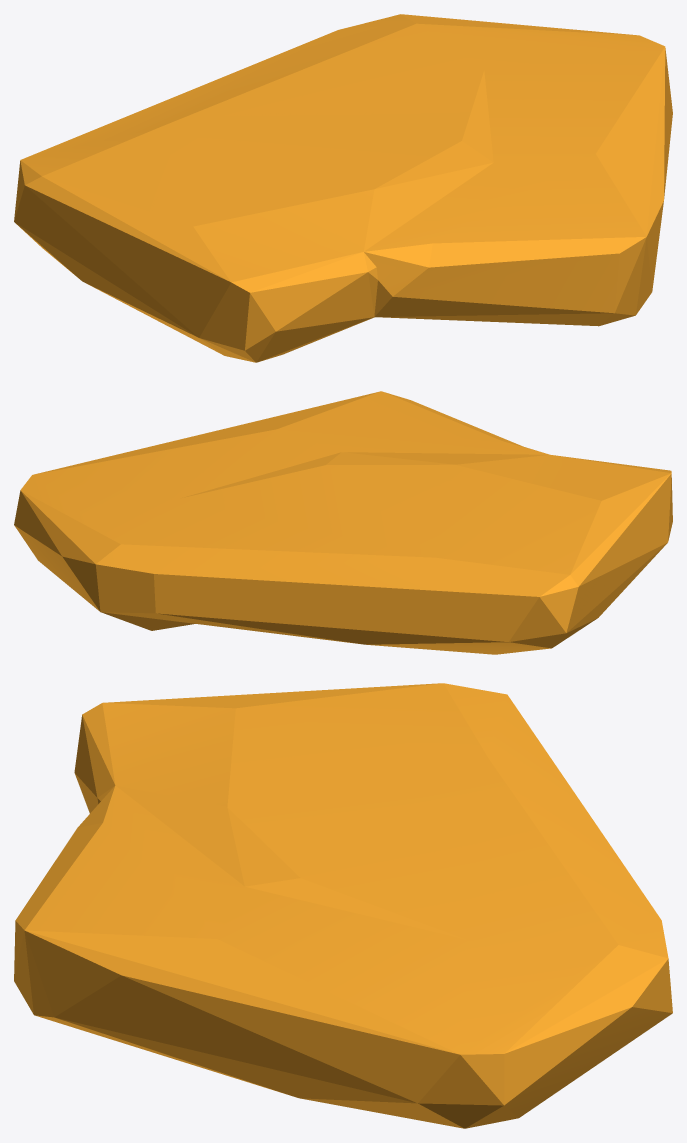
Rendered from SM_Iceberg_Small_B.fbx.
3 views of the same model, one above another, from view 1: azimuth 30°, elevation 25°; view 2: azimuth 150°, elevation 25°; view 3: azimuth 270°, elevation 25° (orthographic). The views are drawn at different scales.
Parts seen in each view (by area): view 1: iceberg-small-b; view 2: iceberg-small-b; view 3: iceberg-small-b.
Boxes of the visible parts, bbox=[...] form: iceberg-small-b: bbox=[14, 14, 672, 362]; iceberg-small-b: bbox=[14, 391, 672, 654]; iceberg-small-b: bbox=[14, 683, 672, 1128].
Size of the model in its own units: 7.47 by 1.69 by 5.99.
